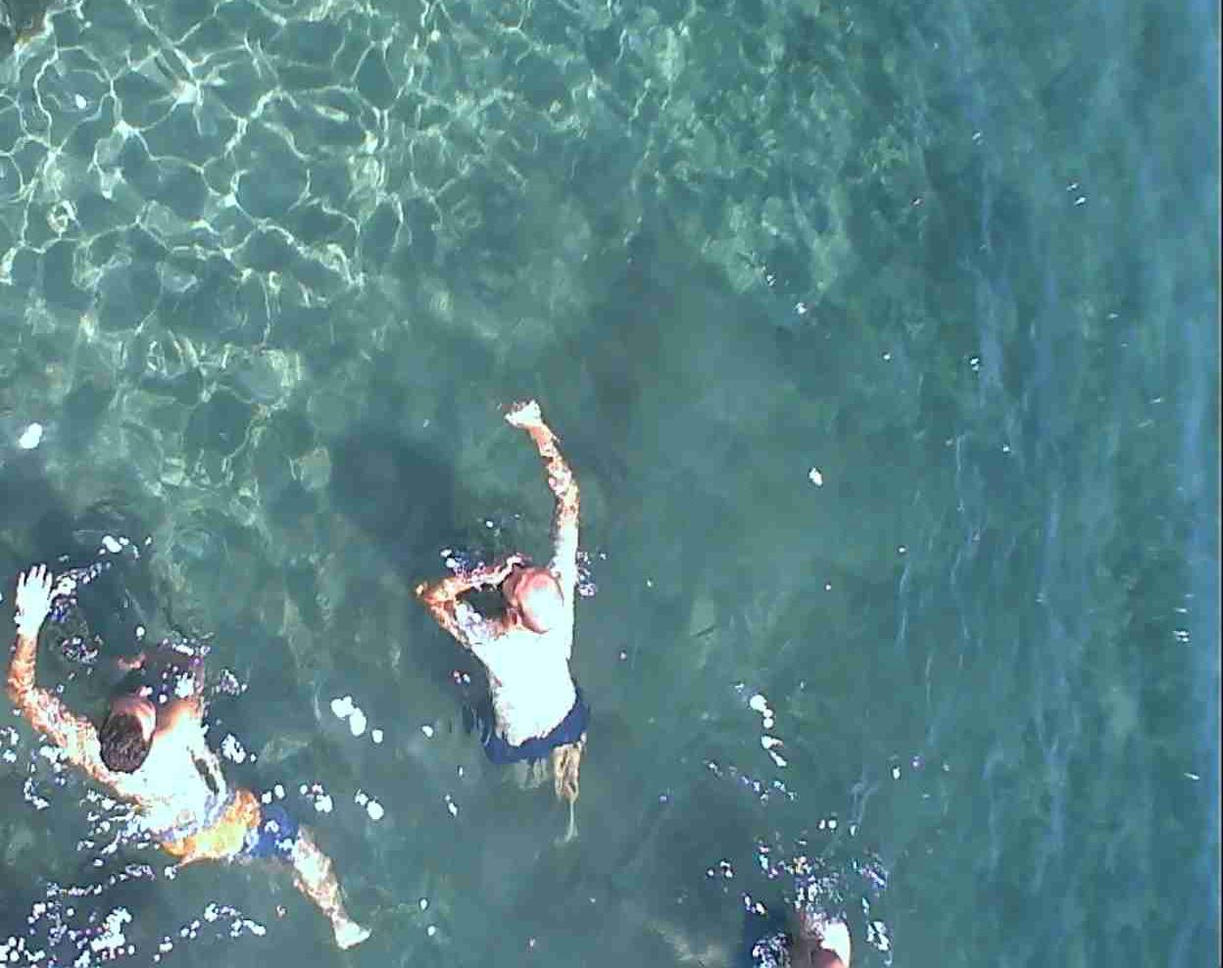human: (20, 553, 350, 961), (416, 375, 583, 869), (1, 1, 1, 1)
